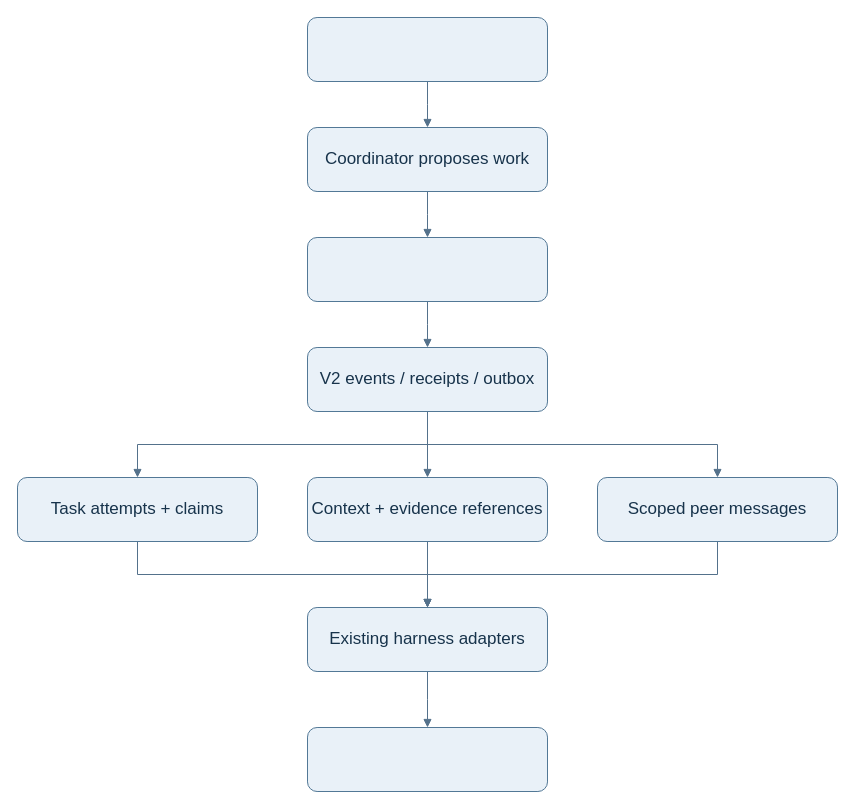
The diagram is 855 pixels wide and 809 high, and some of its shapes have lost their labels. Here are the shapes that lost their labels. From the top down, the centre of each, then its label:
point (427, 49): Shared thread / plan / artifacts
point (427, 269): Plan + task service commands
point (427, 759): Results back to goal thread
